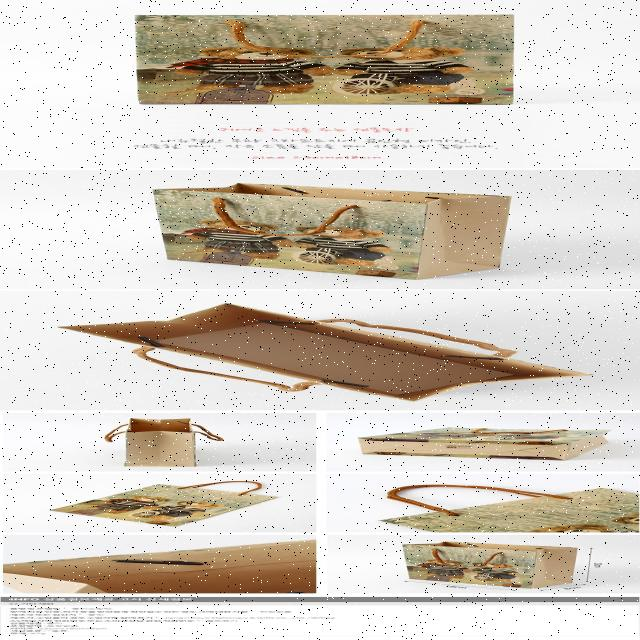paper bag: (103, 181, 553, 281)
